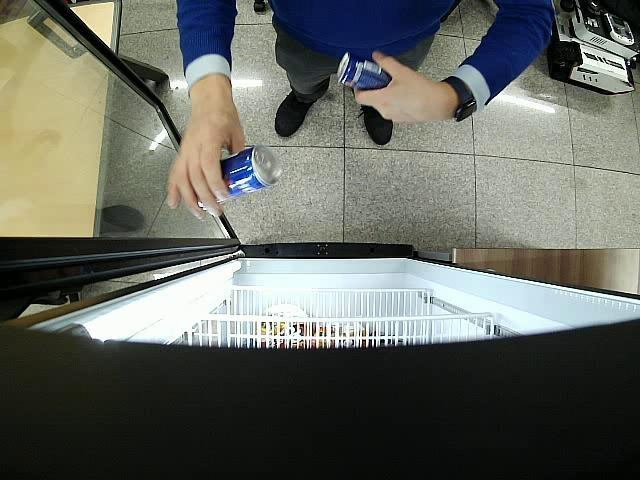16_hot6: (198, 147, 282, 210), (338, 52, 391, 89)
